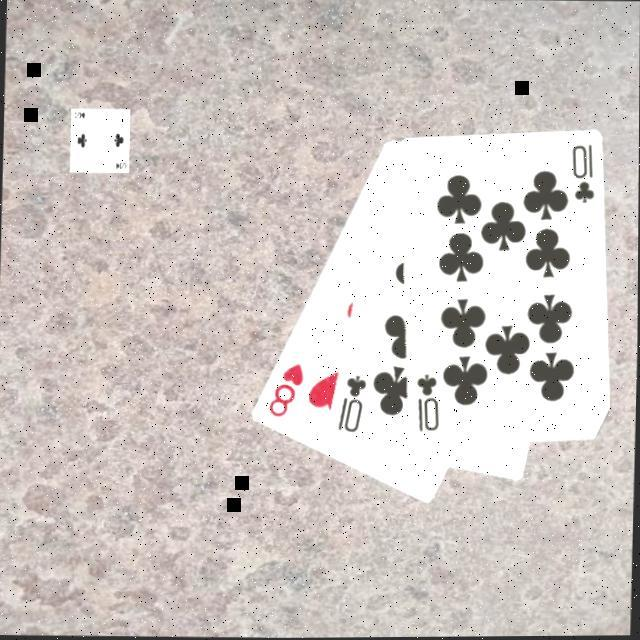10C: (332, 370, 366, 436), (565, 140, 596, 207), (409, 370, 440, 435)
8H: (264, 358, 304, 421)
